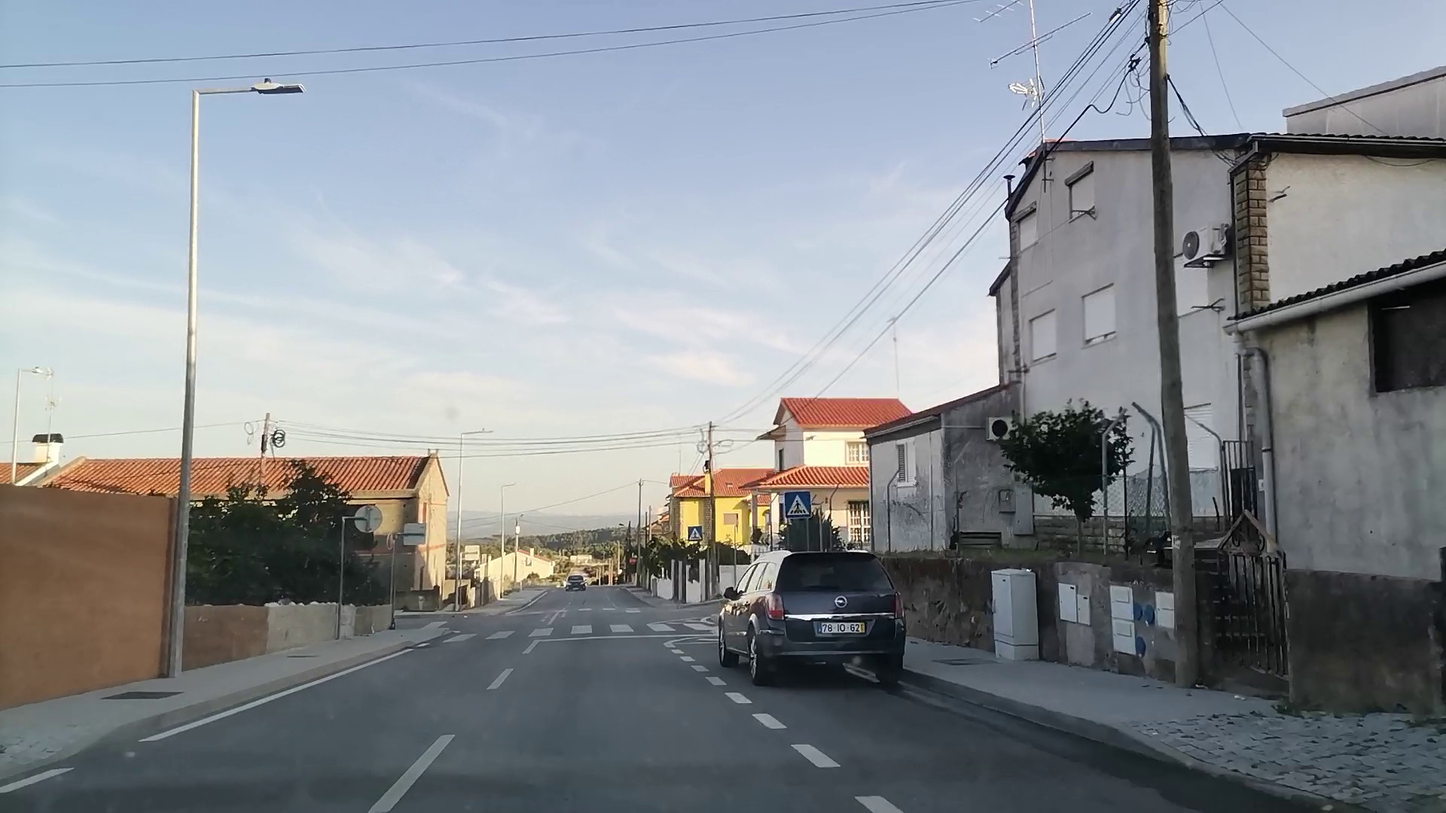Stairs: (437, 617, 724, 641)
